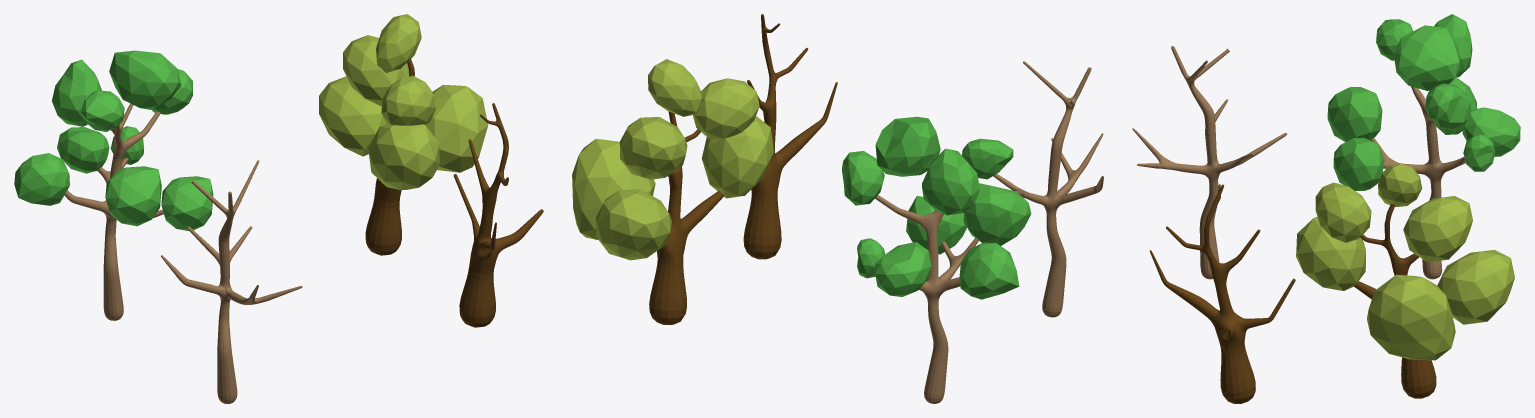
Rendered from Props.fbx.
The picture shows the model from 3 angles, left to right: view 1: azimuth 30°, elevation 25°; view 2: azimuth 150°, elevation 25°; view 3: azimuth 270°, elevation 25°; orthographic projection. The views are drawn at different scales.
Parts seen in each view (by area): view 1: tree_leaves_001, tree_leaves_002, tree_002, tree_001; view 2: tree_leaves_002, tree_leaves_001, tree_002, tree_001; view 3: tree_leaves_002, tree_leaves_001, tree_002, tree_001.
Boxes of the visible parts, x1=… form: tree_leaves_001: x1=14, y1=50, x2=213, y2=320; tree_leaves_002: x1=319, y1=14, x2=488, y2=255; tree_002: x1=453, y1=103, x2=543, y2=327; tree_001: x1=161, y1=160, x2=302, y2=403; tree_leaves_002: x1=572, y1=59, x2=773, y2=324; tree_leaves_001: x1=842, y1=116, x2=1031, y2=403; tree_002: x1=743, y1=14, x2=837, y2=259; tree_001: x1=993, y1=61, x2=1103, y2=317; tree_leaves_002: x1=1296, y1=164, x2=1514, y2=398; tree_leaves_001: x1=1327, y1=14, x2=1520, y2=279; tree_002: x1=1149, y1=184, x2=1295, y2=403; tree_001: x1=1132, y1=46, x2=1287, y2=279.
Size of the model in its own units: 6.54 by 8.42 by 4.8.
